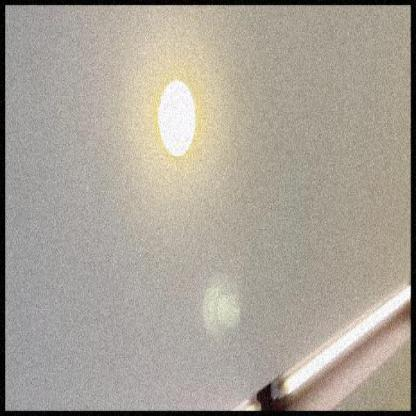light_on: (274, 275, 411, 410), (144, 66, 211, 161), (231, 389, 265, 411)
